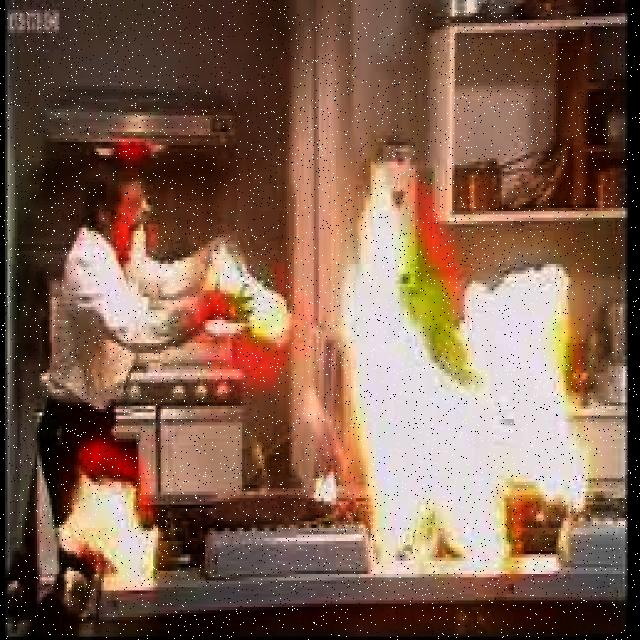fire: (327, 184, 612, 591), (59, 470, 166, 597), (202, 257, 288, 346)
